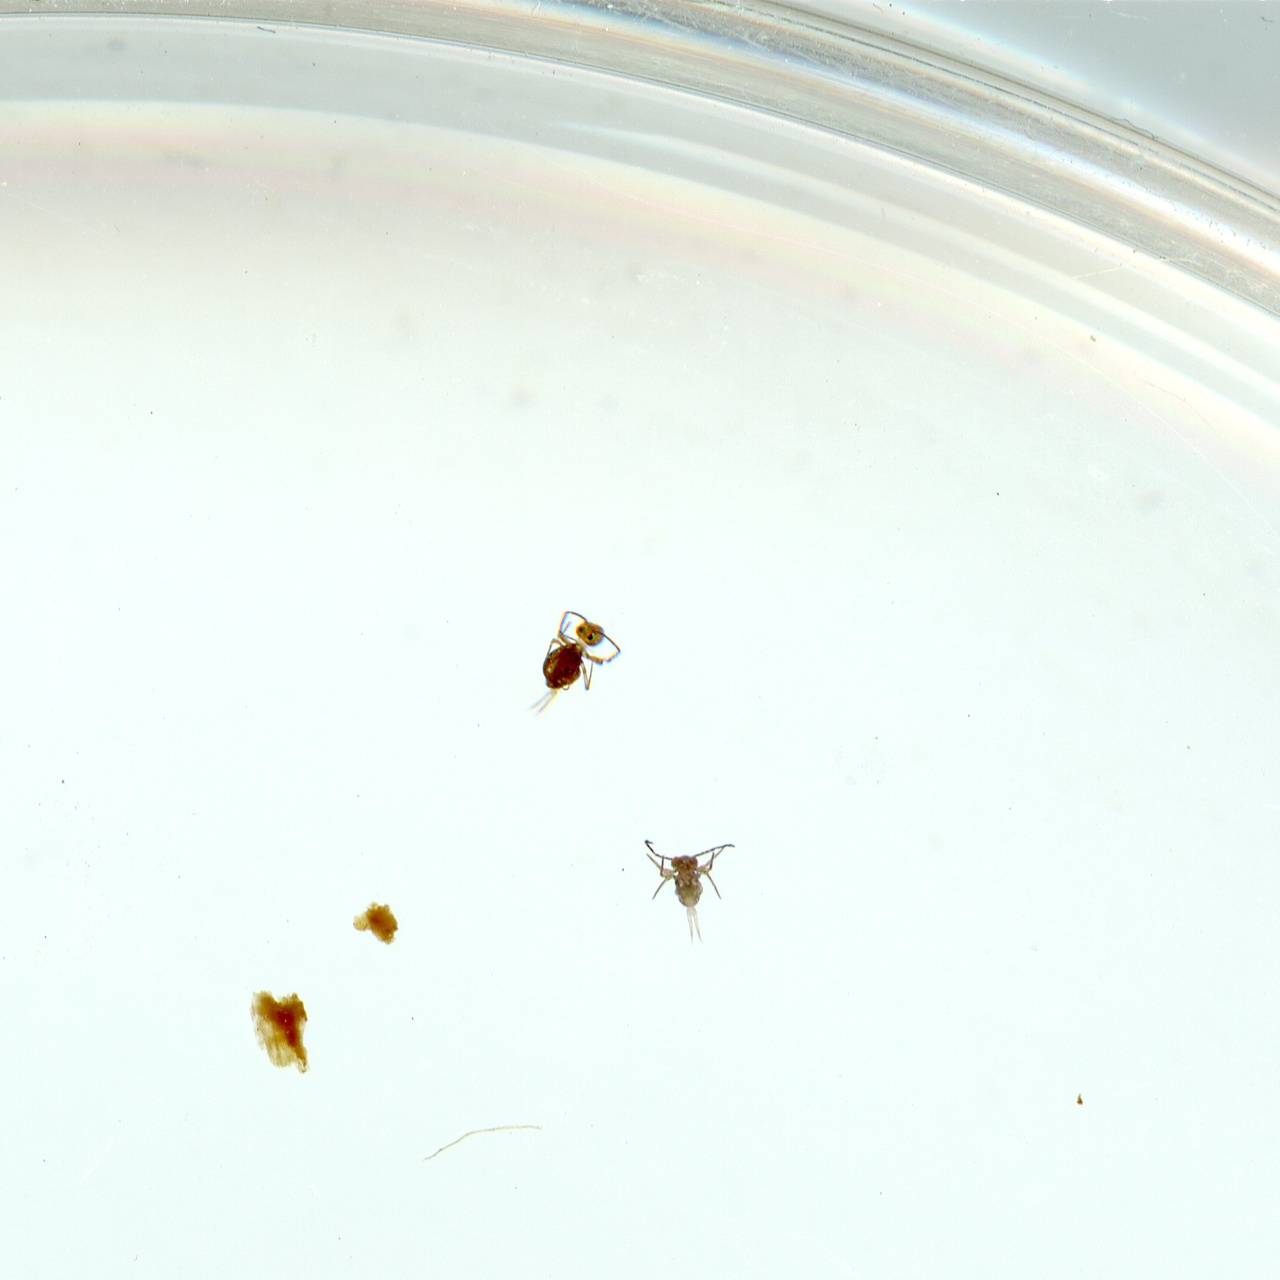arthropod: (490, 595, 637, 751), (633, 835, 745, 948)
